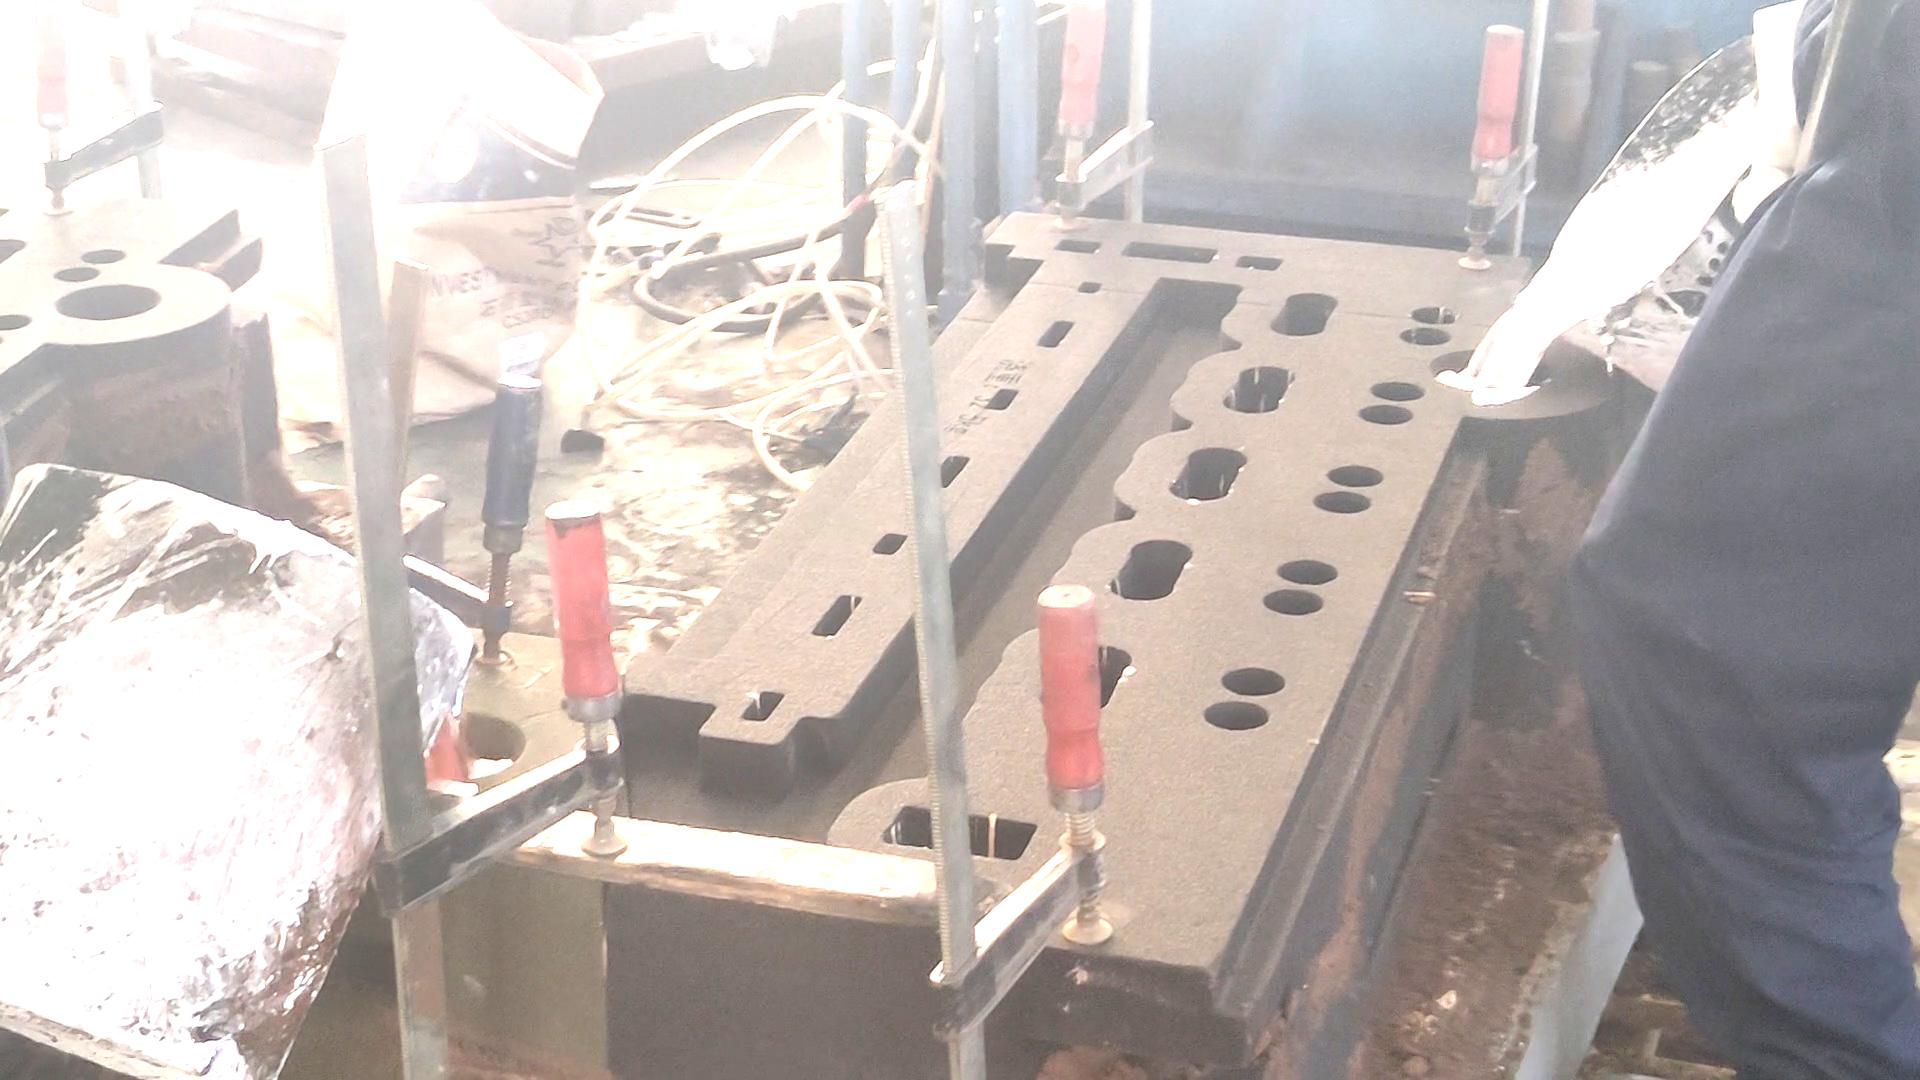pouring hole: (401, 708, 526, 783), (1425, 345, 1552, 392), (53, 284, 162, 320)
